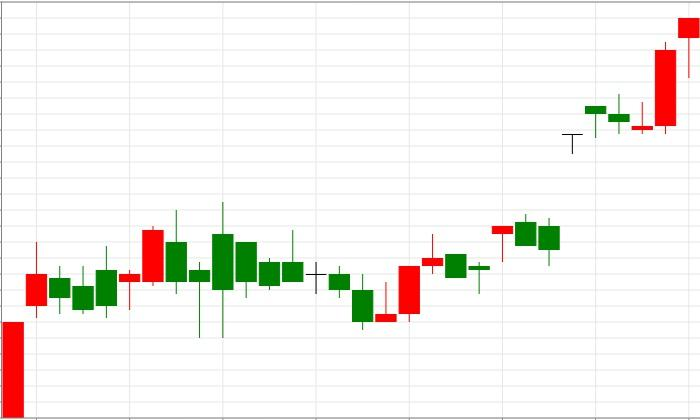morning_star_rise: (165, 201, 421, 338)
